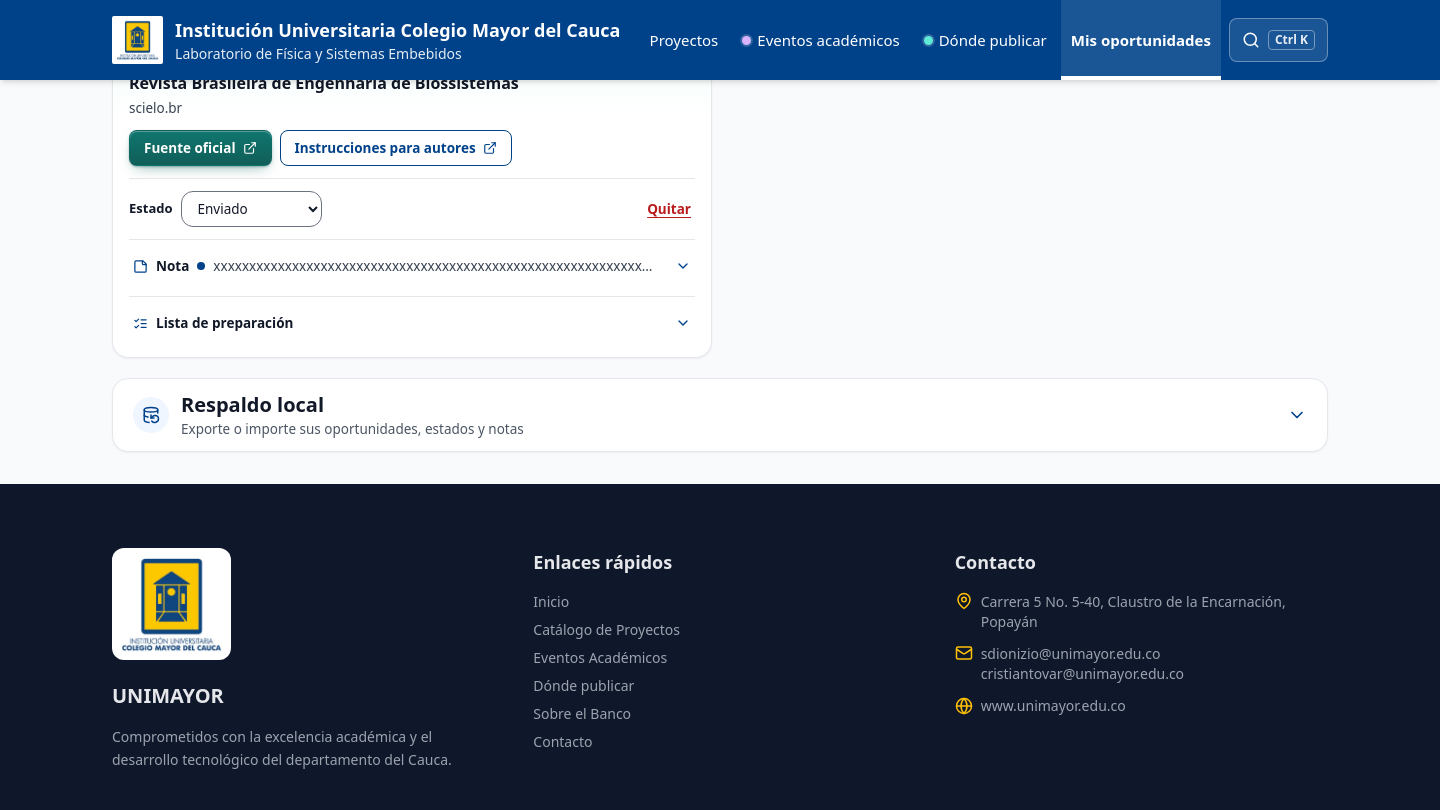
Test: backup panel › is a collapsed <details> titled «Respaldo local» with the explanation, export and the import step inside
(page scrolled)
Click the heading "Respaldo local": (252, 404) [181,391,324,418]
(page scrolled)
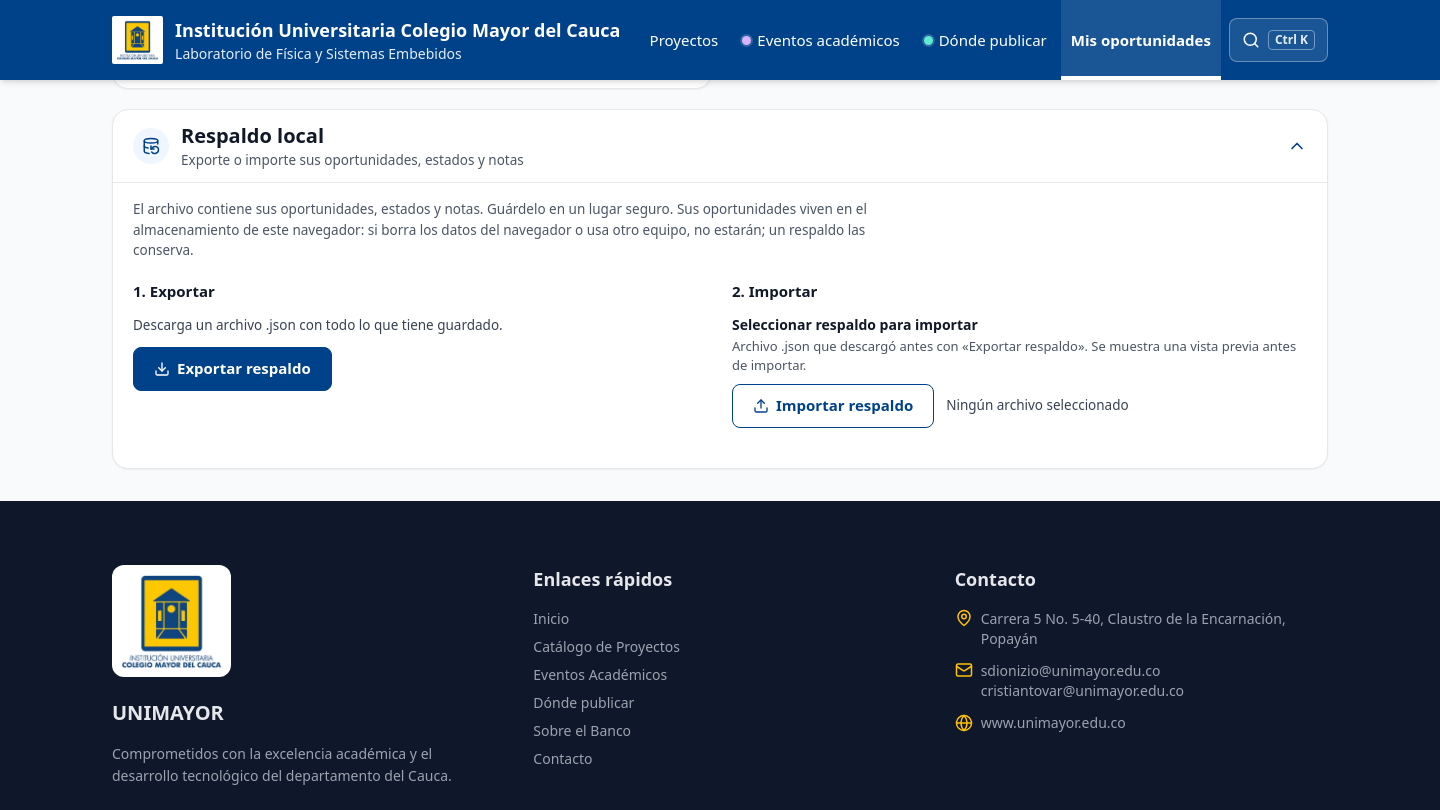
Check: the text "almacenamiento de este navegador" is shown, box [133,200,867,259]
Check: the button "Importar respaldo" is shown, box [732,384,934,428]
Check: the text "Ningún archivo seleccionado" is shown, box [946,395,1129,416]
